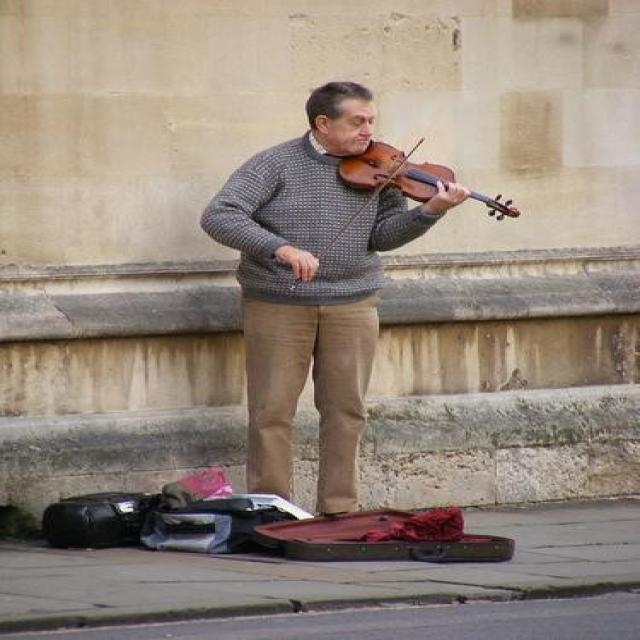violin: (332, 140, 522, 219)
